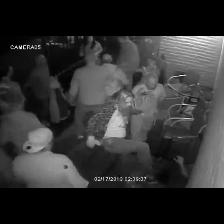person: (86, 91, 151, 176), (13, 128, 88, 187), (0, 83, 42, 180), (68, 54, 110, 136), (0, 84, 43, 149), (131, 74, 165, 140), (25, 55, 50, 124), (118, 36, 139, 92), (102, 54, 128, 96), (80, 36, 102, 65), (0, 66, 13, 82)
